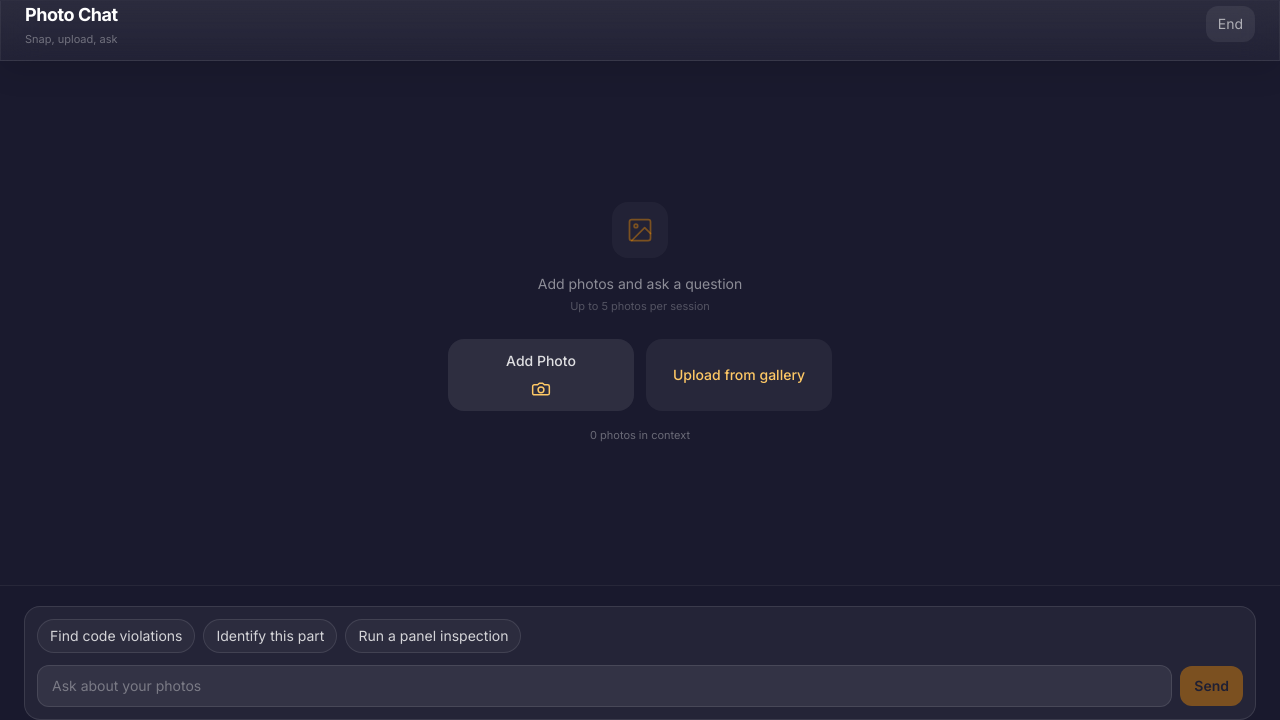
Test: PhotoChatView › prefills the composer when a suggested prompt is tapped and does not send immediately
The width and height of the screenshot is (1280, 720).
Click the button "Identify this part".
click(270, 636)  # box [203, 619, 337, 653]
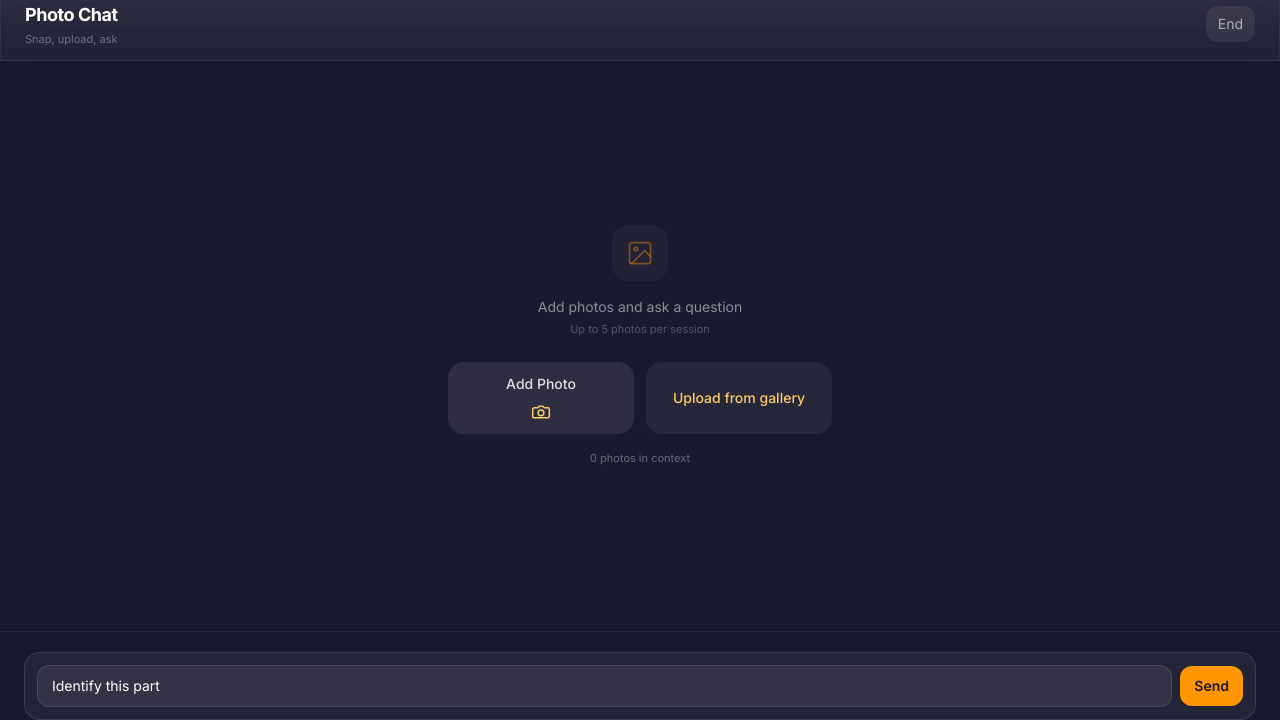
Check: the field with placeholder "Ask about your photos" holds "Identify this part"
Clear the field with placeholder "Ask about your photos" at x=605, y=686, box [37, 665, 1172, 707]
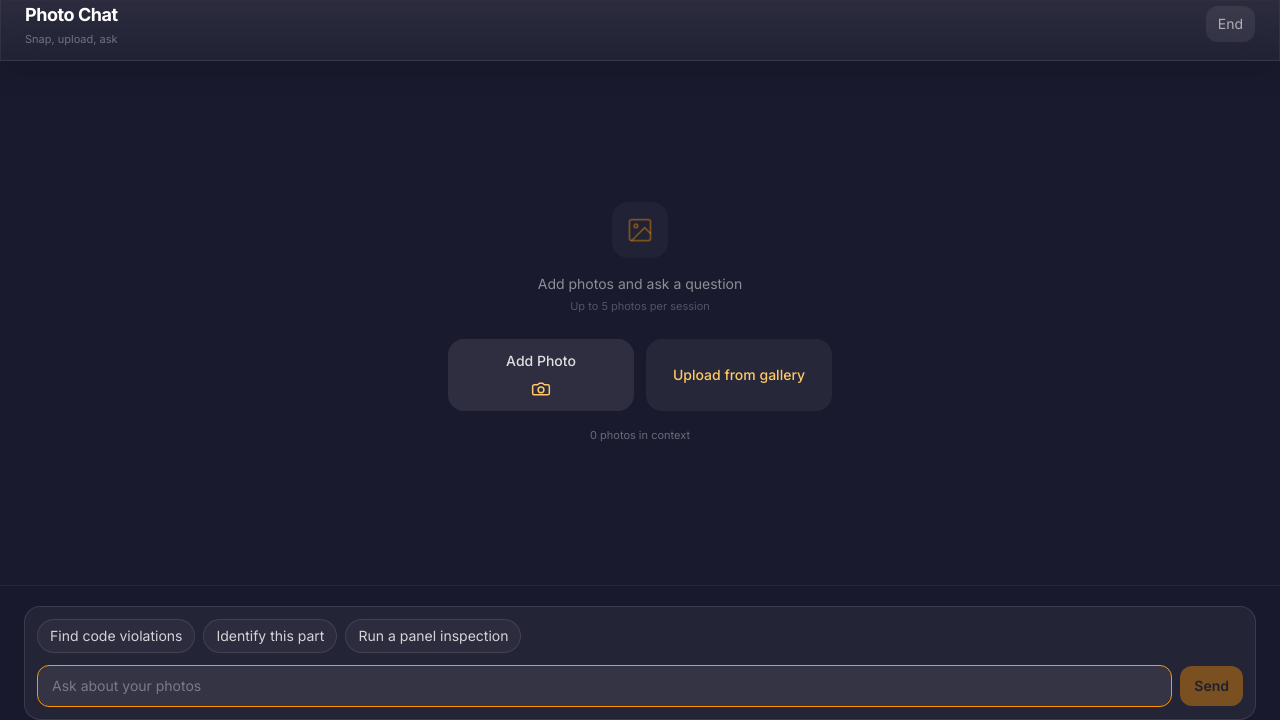
Check: the button "Find code violations" is shown, box [37, 619, 195, 653]
